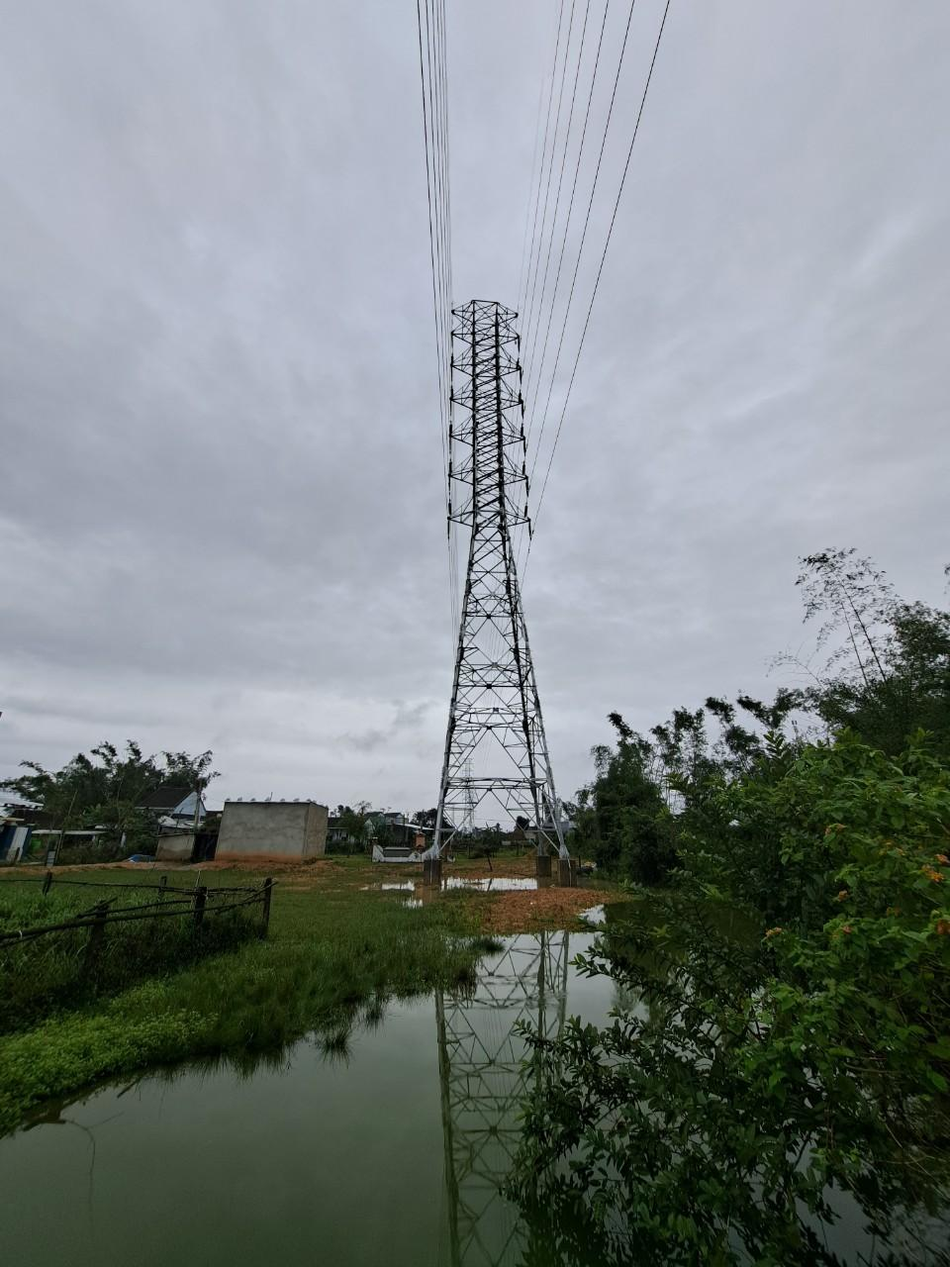power_tower: (410, 281, 576, 865)
